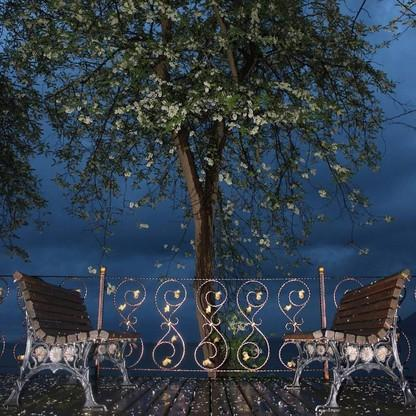obstacle: (274, 267, 410, 405), (8, 263, 137, 405)
